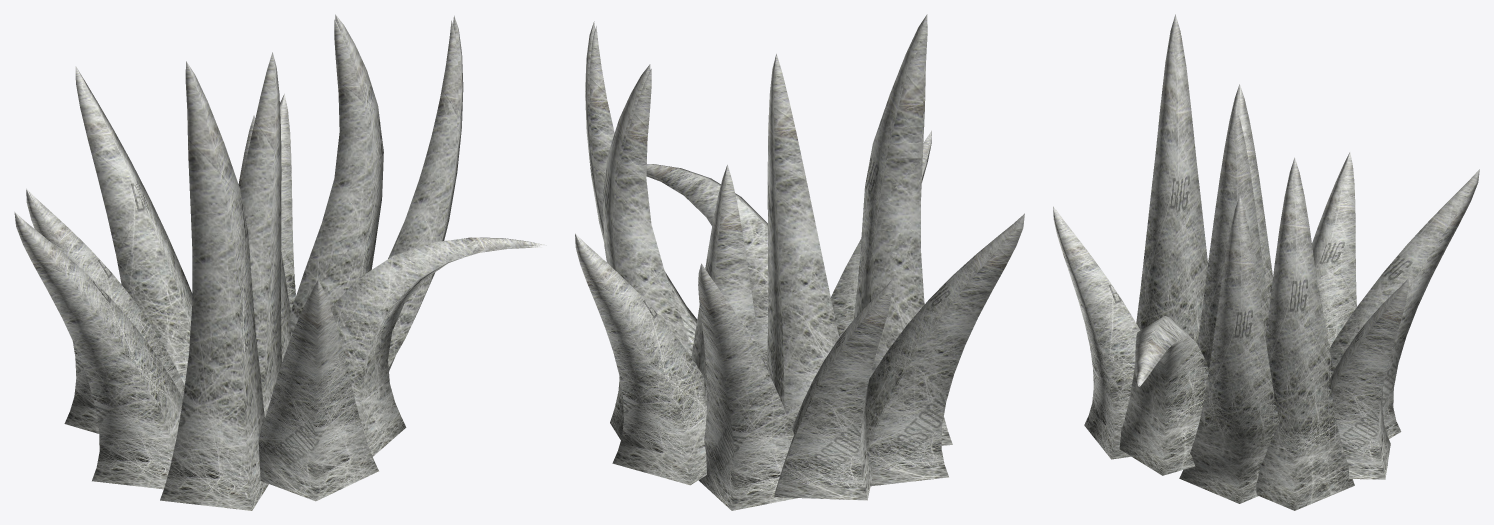
Rendered from Organic Spikes.fbx.
3 renders of one model, left to right at view 1: azimuth 30°, elevation 25°; view 2: azimuth 150°, elevation 25°; view 3: azimuth 270°, elevation 25°, orthographic. The views are drawn at different scales.
Parts seen in each view (by area): view 1: Spike_structure, Spike_structure1; view 2: Spike_structure, Spike_structure1; view 3: Spike_structure, Spike_structure1.
Part boxes in pixels (x1,y1,x2,y2): Spike_structure: (14, 14, 546, 510); Spike_structure1: (29, 19, 541, 449); Spike_structure: (575, 14, 1024, 510); Spike_structure1: (589, 26, 1021, 495); Spike_structure: (1053, 14, 1479, 510); Spike_structure1: (1055, 34, 1428, 392).
Size of the model in its own units: 1.37 by 1.19 by 1.19.
